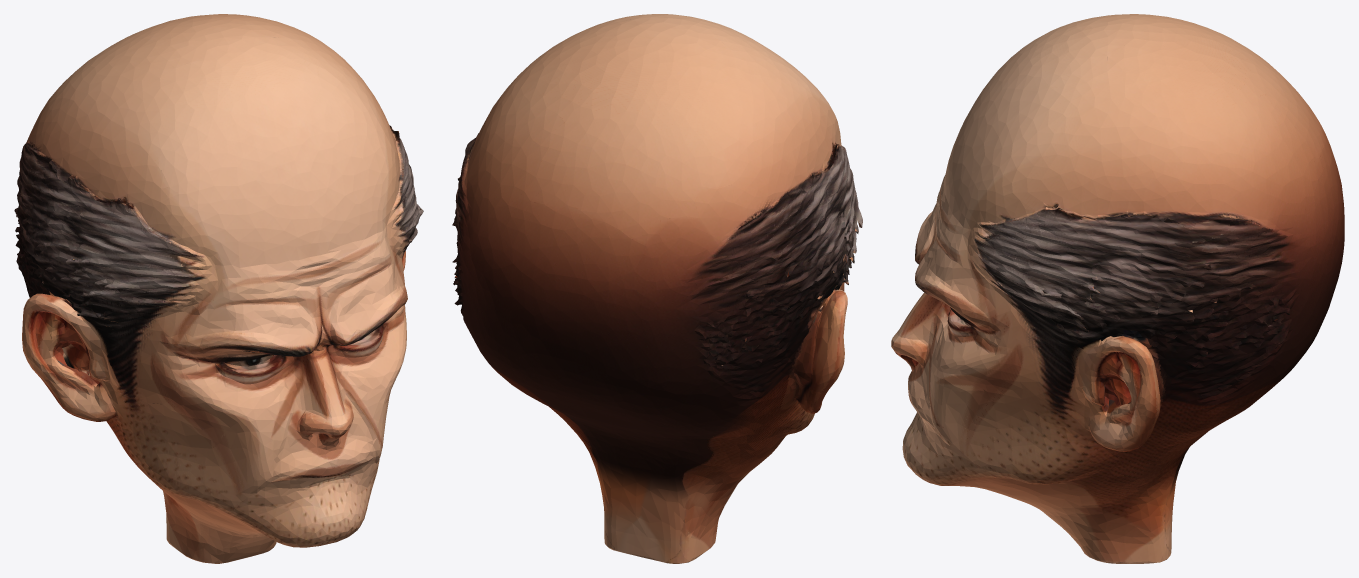
File: side_torishigawa_repaired_atlas.glb
The picture shows the model from 3 angles, left to right: view 1: azimuth 30°, elevation 25°; view 2: azimuth 150°, elevation 25°; view 3: azimuth 270°, elevation 25°; orthographic projection.
Visible parts, largest first — view 1: temp_mesh.ply; view 2: temp_mesh.ply; view 3: temp_mesh.ply.
Part boxes in pixels (x1=…): temp_mesh.ply: x1=14, y1=14, x2=423, y2=563; temp_mesh.ply: x1=452, y1=14, x2=862, y2=563; temp_mesh.ply: x1=891, y1=14, x2=1344, y2=563.
Size of the model in its own units: 1.54 by 1.97 by 1.59.
Materials: 1 (1 with a texture image).
